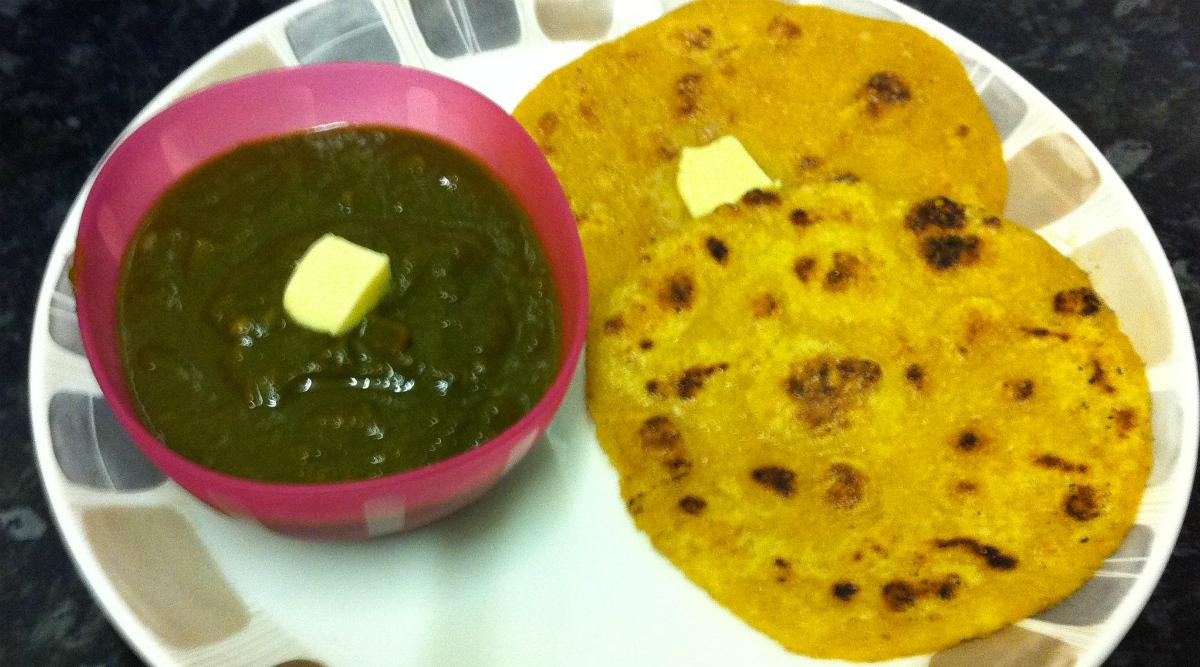saag: (114, 126, 555, 479)
